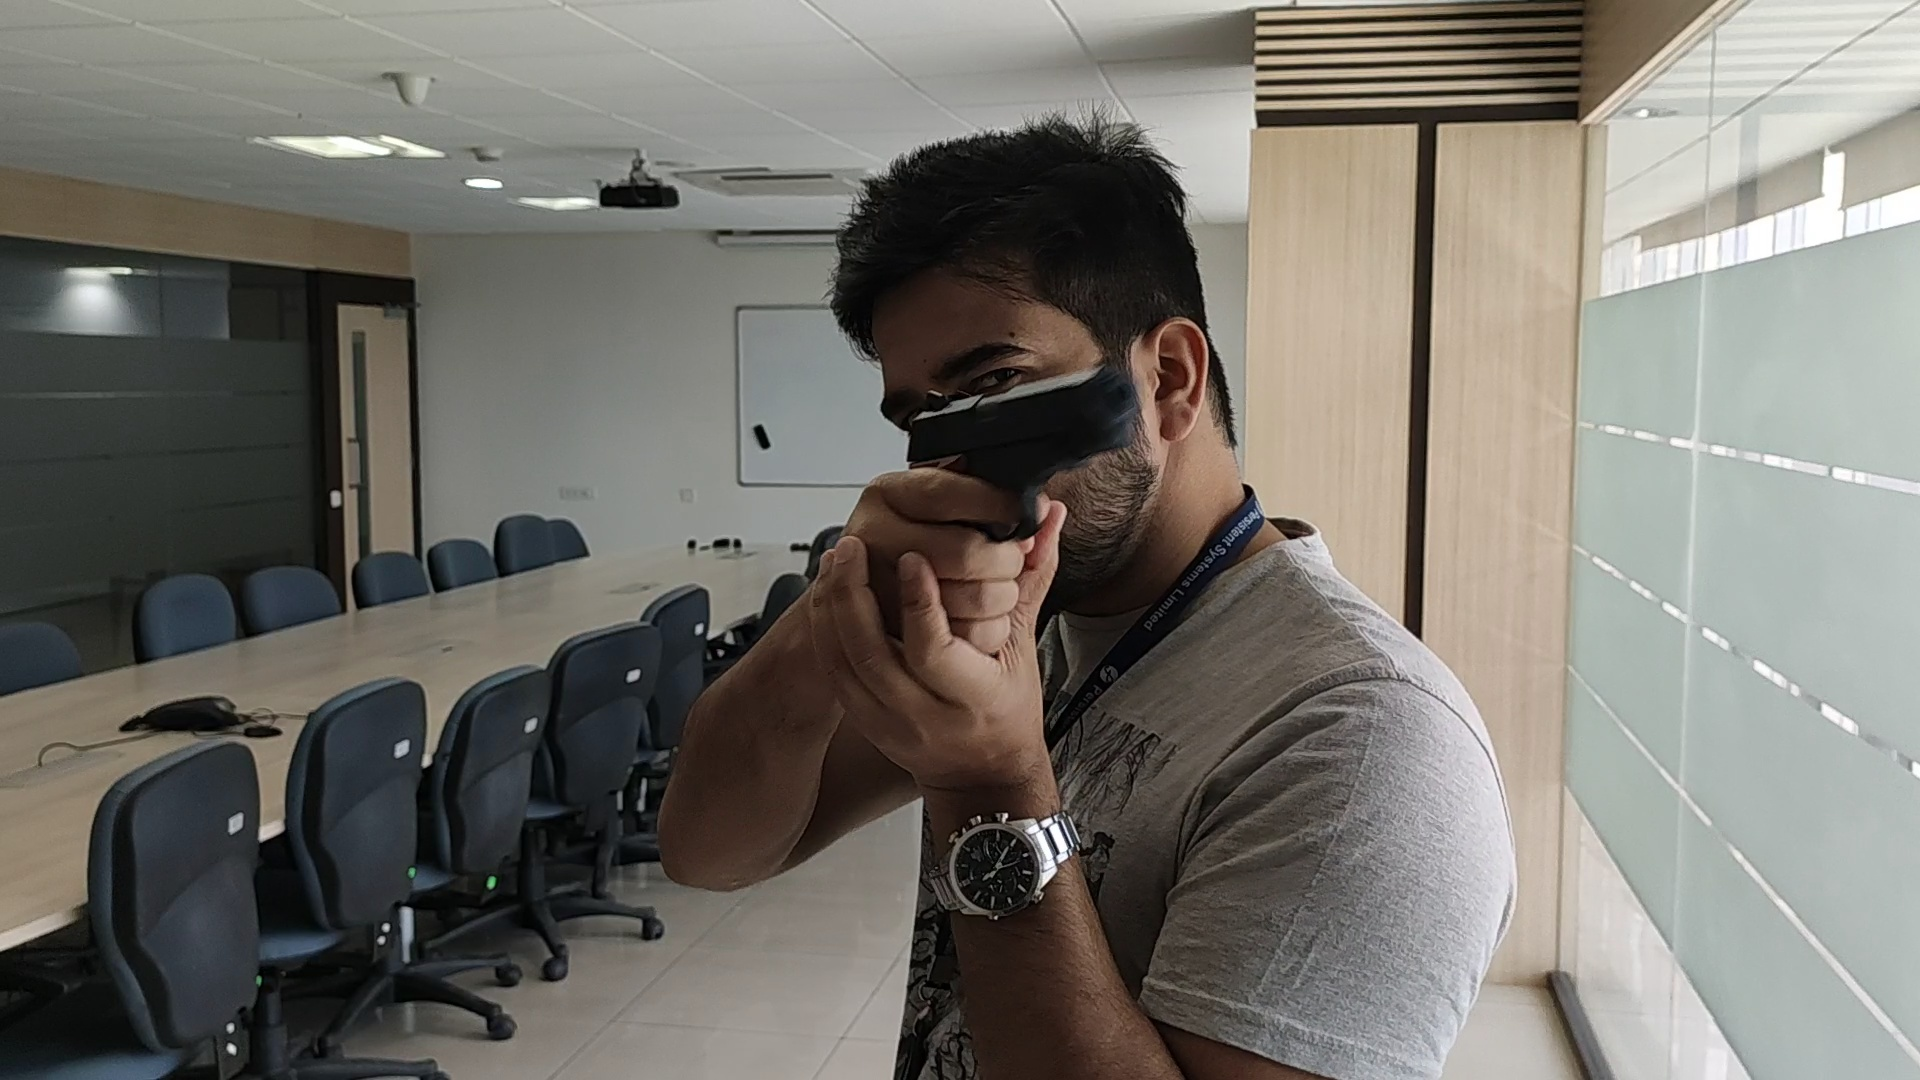gun: (909, 388, 1122, 469)
